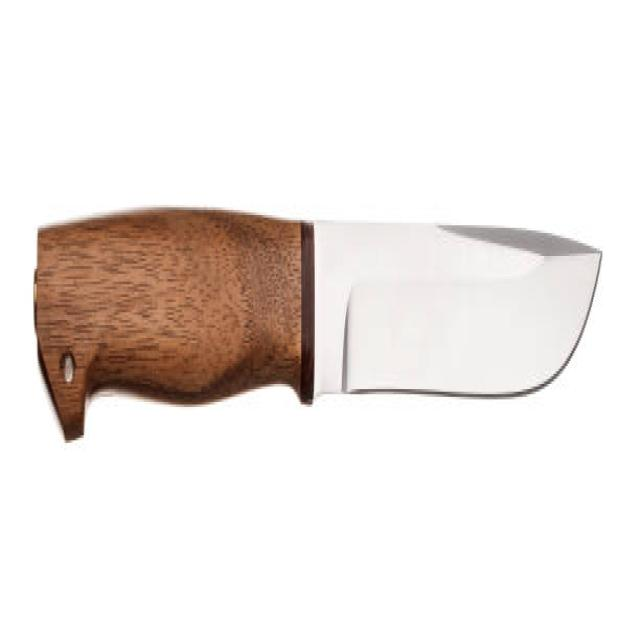knife: (27, 186, 609, 455)
